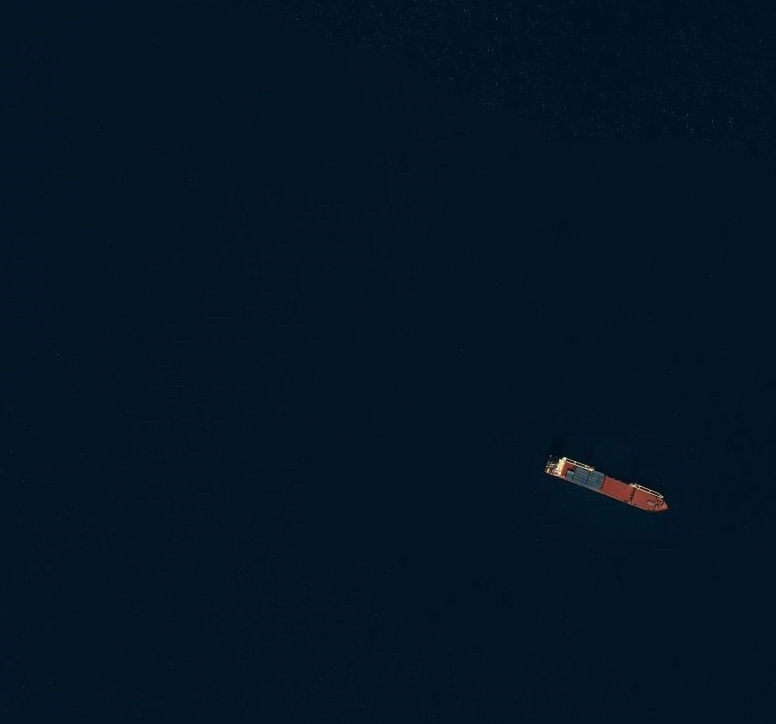ship: (535, 449, 672, 522)
